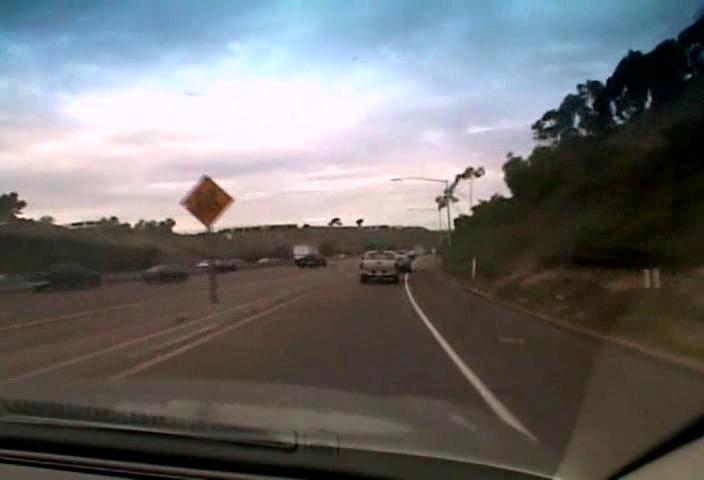addedLane: (178, 172, 234, 227)
